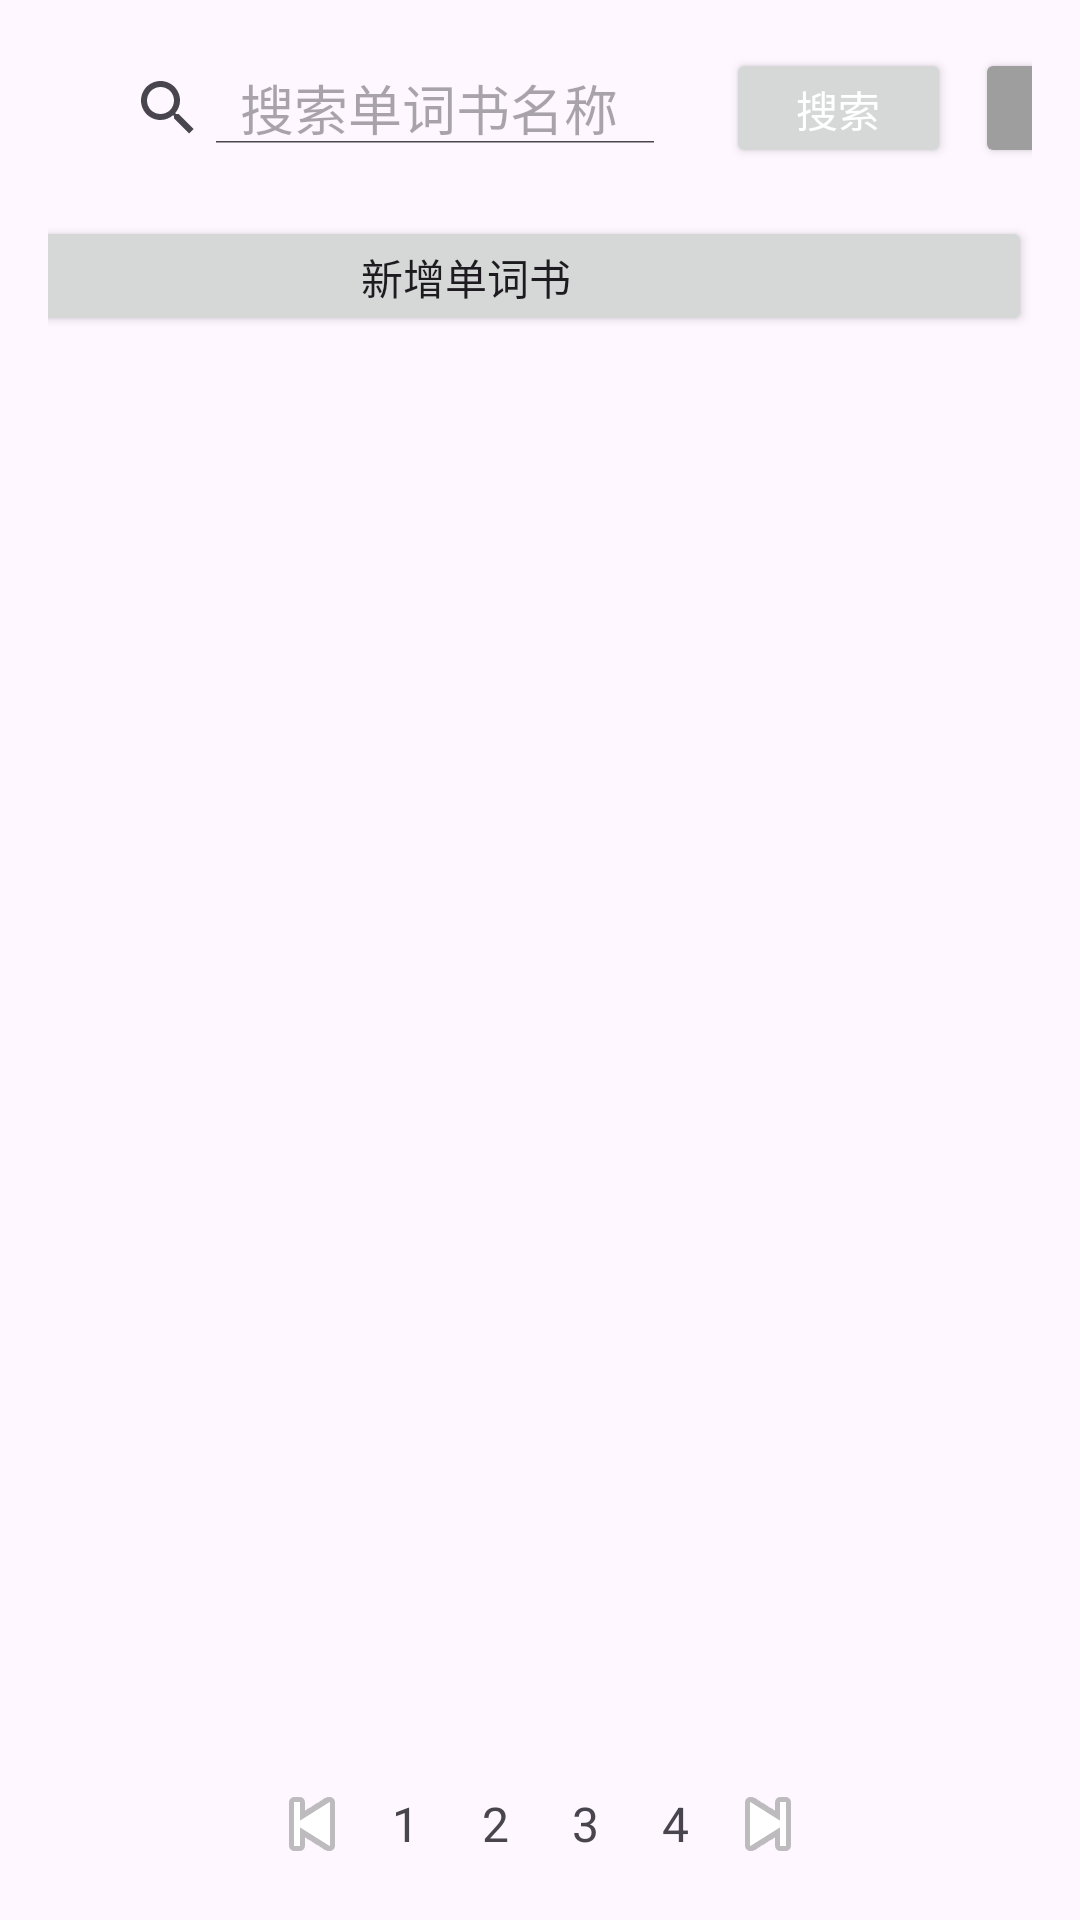

Named icons in this screenshot (1080w x 1920h) and their centers, point (x, y):
上一页: point (312, 1824)
下一页: point (768, 1824)
